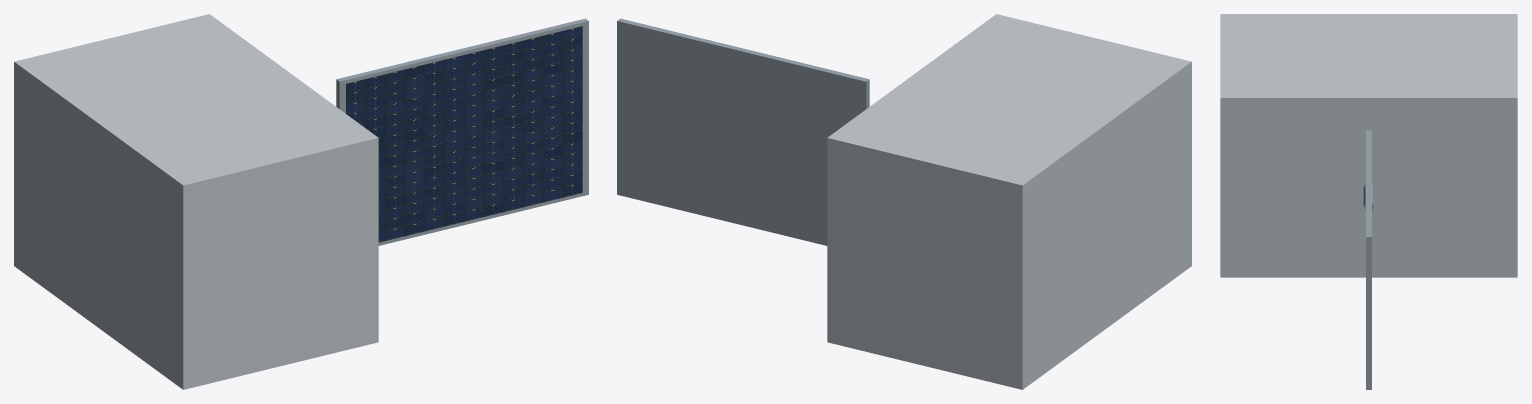
Rendered from ref-jl1mf02-51826.glb.
3 views of the same model, side by side, from view 1: azimuth 30°, elevation 25°; view 2: azimuth 150°, elevation 25°; view 3: azimuth 270°, elevation 25° (orthographic). The views are drawn at different scales.
Visible parts, largest first — view 1: Spacecraft body, Photovoltaic laminates, Array frame; view 2: Spacecraft body, Array frame; view 3: Spacecraft body, Array frame.
Boxes of the visible parts, left/top/right/bottom form: Spacecraft body: left=14, top=14, right=378, bottom=389; Photovoltaic laminates: left=346, top=26, right=582, bottom=242; Array frame: left=336, top=18, right=588, bottom=245; Spacecraft body: left=827, top=14, right=1191, bottom=389; Array frame: left=617, top=18, right=869, bottom=245; Spacecraft body: left=1220, top=14, right=1517, bottom=277; Array frame: left=1366, top=130, right=1371, bottom=389.
Size of the model in its own units: 0.5 by 0.2 by 0.3.
3 materials, 1 textured.
